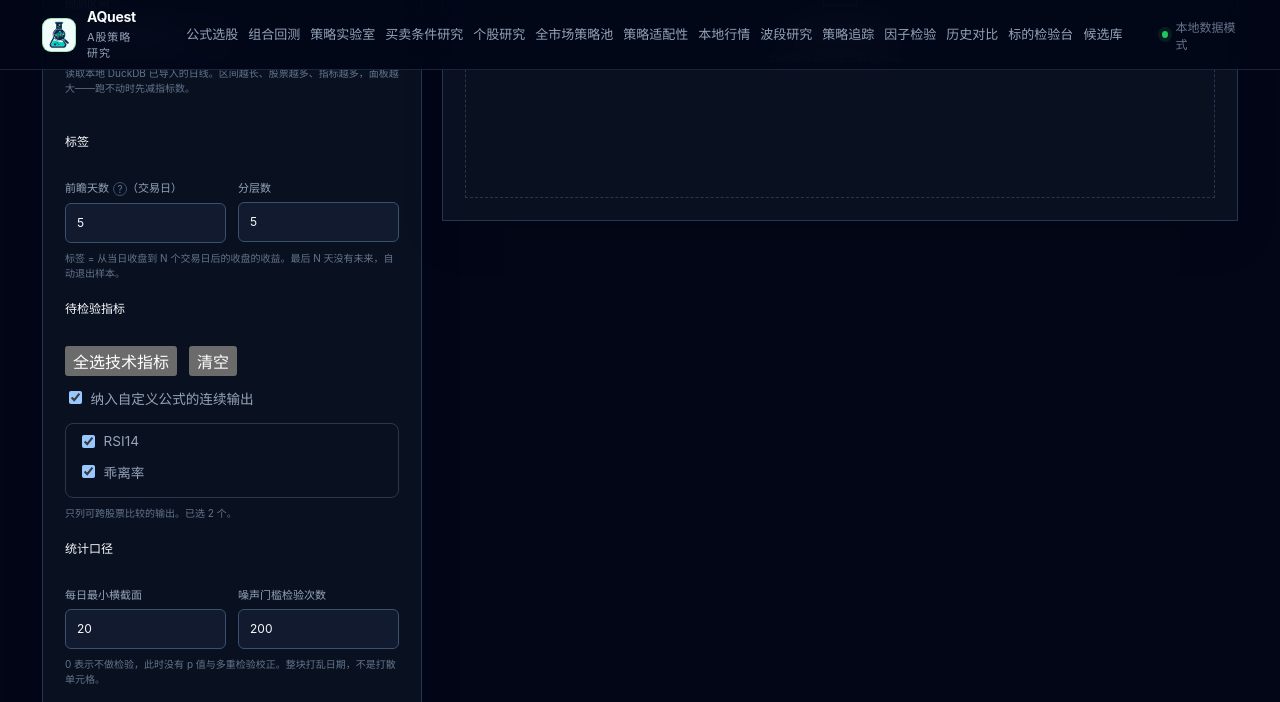
it: FactorTestPage › refuses to run without a value selected
(page scrolled)
Click the button with test id "factor-clear-values". click: (213, 360)
box: left=189, top=346, right=237, bottom=376
(page scrolled)
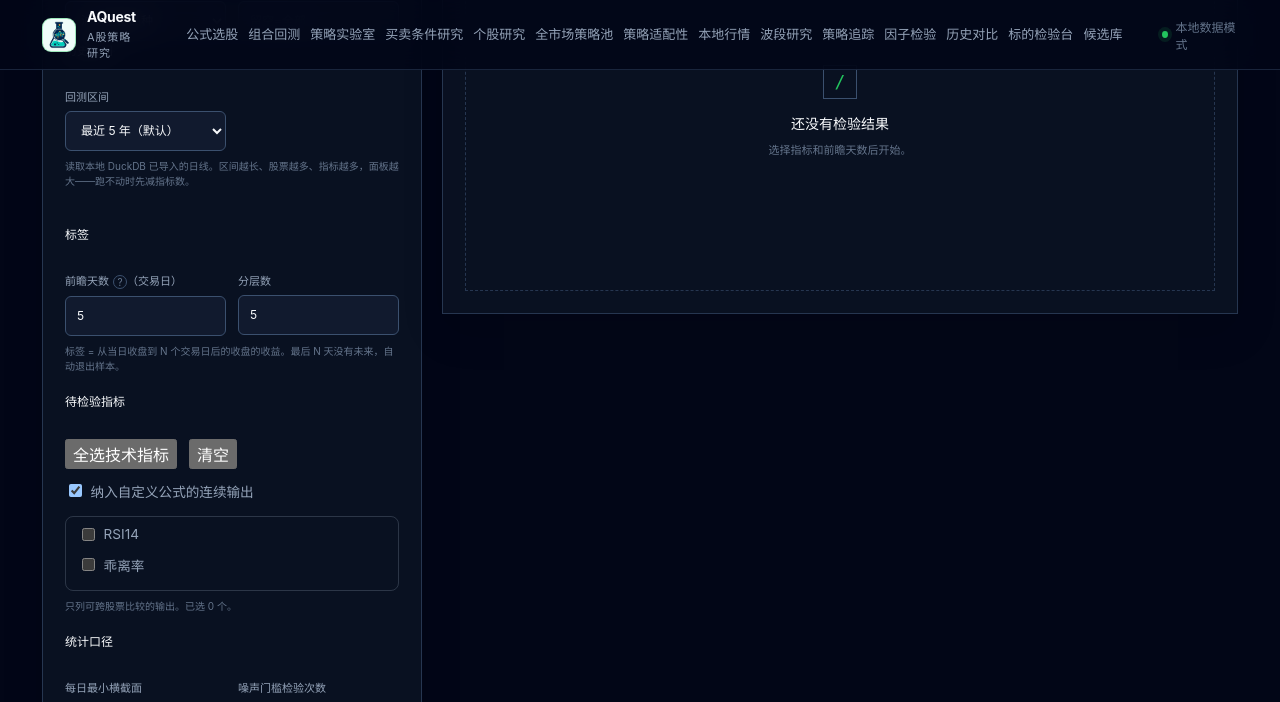
Submit the form with test id "factor-config"
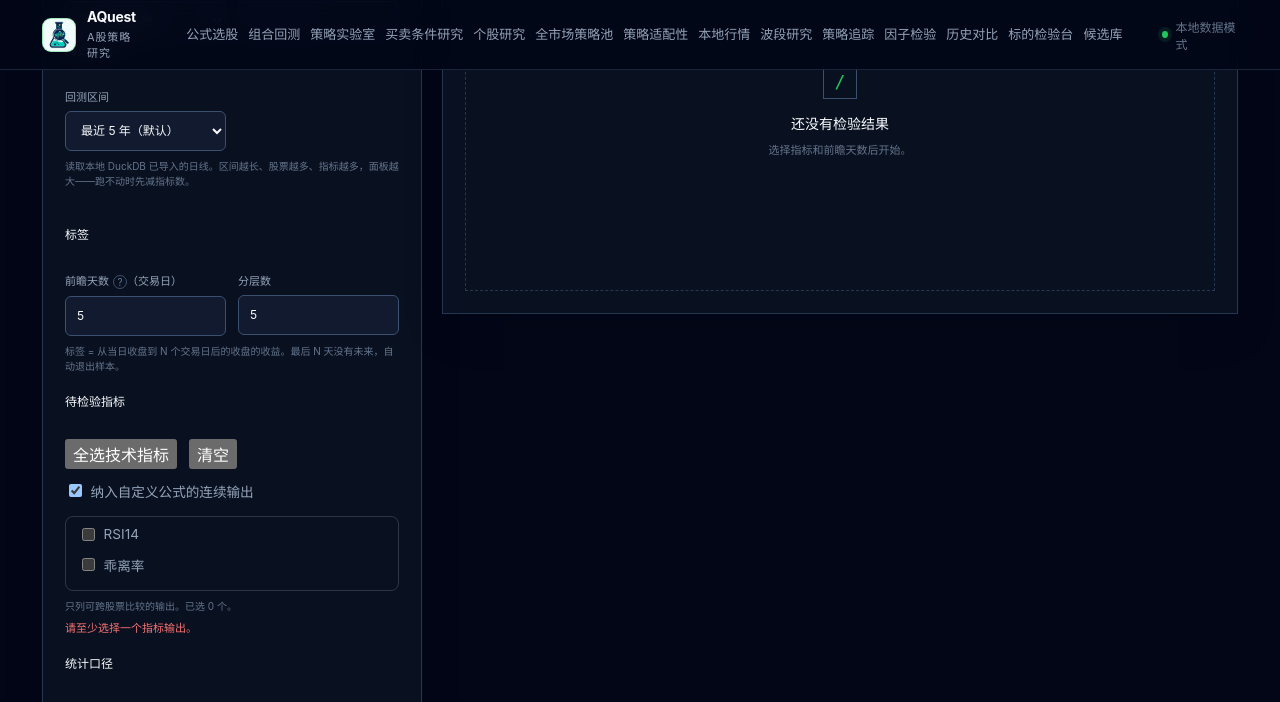
Result: the text "请至少选择一个指标输出" is shown at left=65, top=620, right=197, bottom=634
